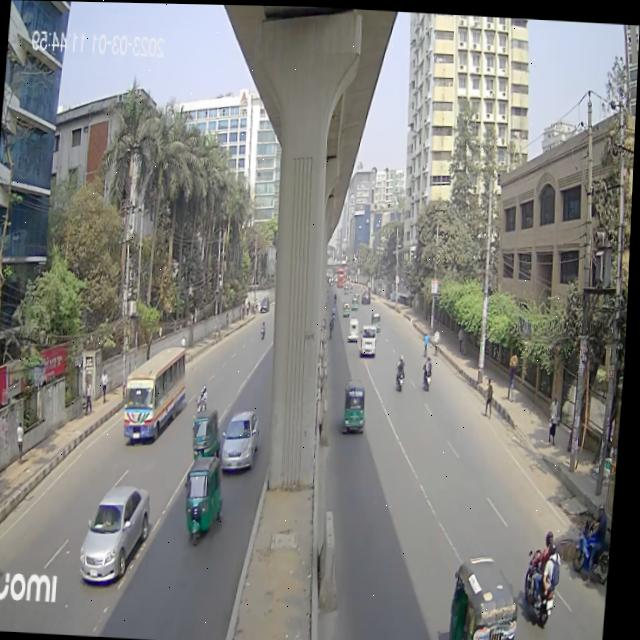cng: (188, 453, 228, 548), (190, 400, 226, 473), (342, 372, 371, 436)
